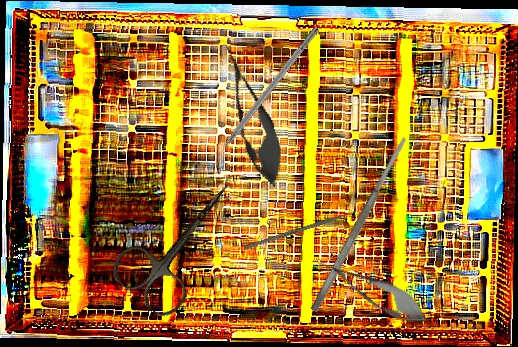Hook Surgical: (204, 24, 321, 171)
Iris Scissors: (105, 160, 260, 323)
Micro Scissor: (209, 38, 295, 193), (309, 246, 437, 335)
Pusher: (243, 206, 368, 250)
Spatula Surgical: (308, 135, 411, 314)
